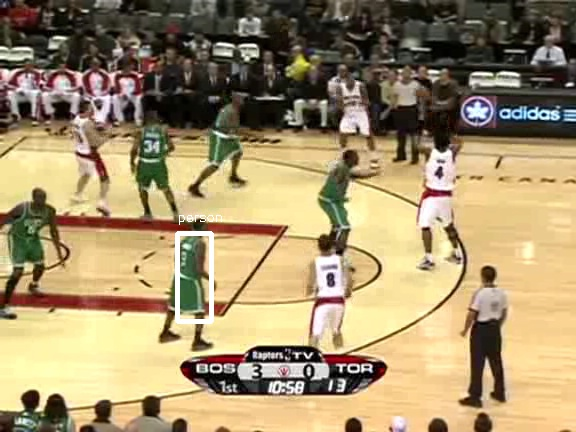person: (174, 233, 208, 314), (173, 233, 207, 314), (175, 233, 209, 314), (174, 232, 208, 313), (174, 234, 208, 315)
target_negative: (250, 130, 480, 414), (101, 176, 359, 343), (509, 31, 570, 386), (89, 382, 418, 416), (327, 118, 389, 235), (560, 199, 570, 419)
